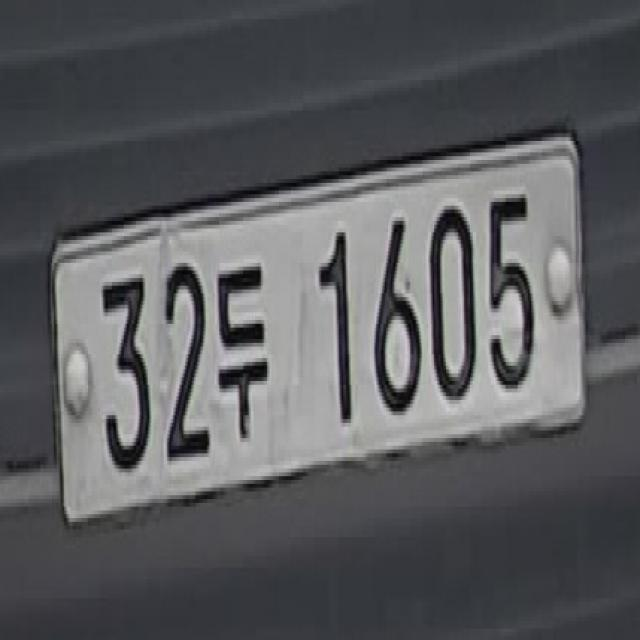0: (428, 194, 478, 408)
1: (316, 225, 355, 434)
2: (158, 251, 210, 465)
3: (100, 267, 155, 476)
5: (485, 183, 534, 396)
6: (367, 217, 422, 415)
du: (215, 248, 271, 446)
license_plate: (49, 141, 586, 526)
